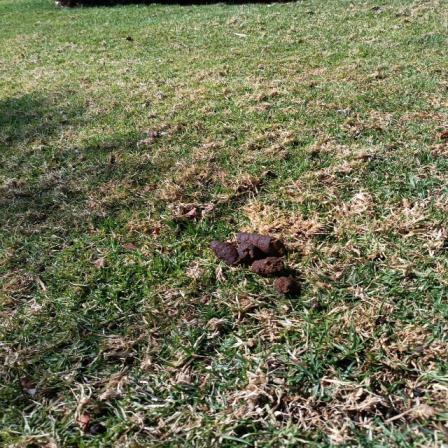dog-poop: (207, 224, 312, 298)
